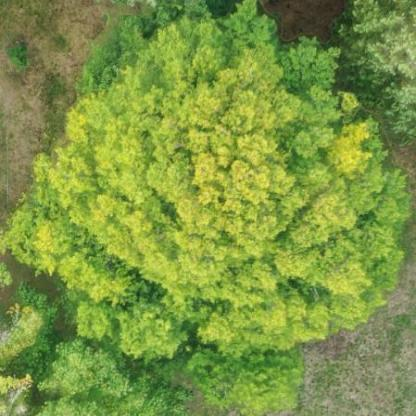Deciduous Tree: (19, 12, 416, 352), (0, 306, 183, 416), (197, 338, 313, 416), (342, 0, 416, 111)
